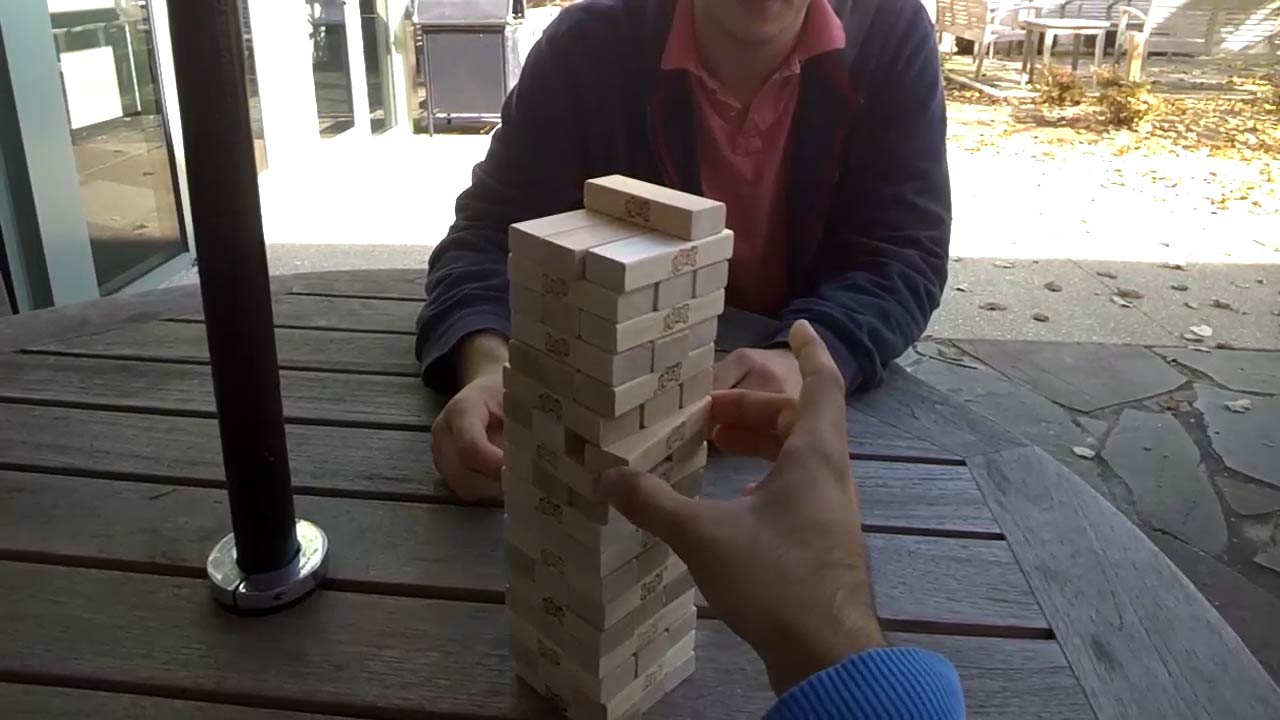hand: (600, 319, 884, 700), (432, 357, 504, 501), (712, 344, 799, 393)
